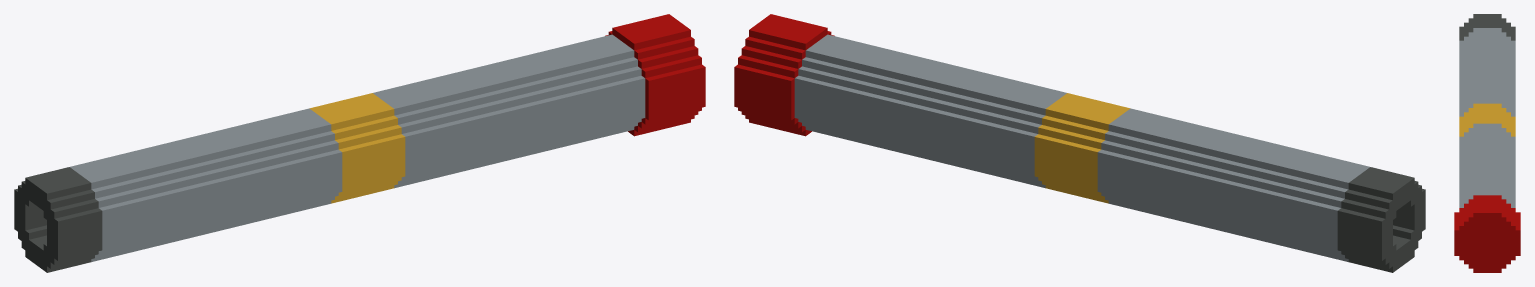
The model's file is hd_pipe.glb.
3 views of the same model, side by side, from view 1: azimuth 30°, elevation 25°; view 2: azimuth 150°, elevation 25°; view 3: azimuth 270°, elevation 25° (orthographic). The views are drawn at different scales.
Visible parts, largest first — view 1: hd_pipe:compound; view 2: hd_pipe:compound; view 3: hd_pipe:compound.
Part boxes in pixels (x1,y1,x2,y2): hd_pipe:compound: (14, 14, 705, 272); hd_pipe:compound: (734, 14, 1425, 272); hd_pipe:compound: (1454, 14, 1520, 272).
Bounding box in the file's own units: 0.408 × 0.056 × 0.056.
